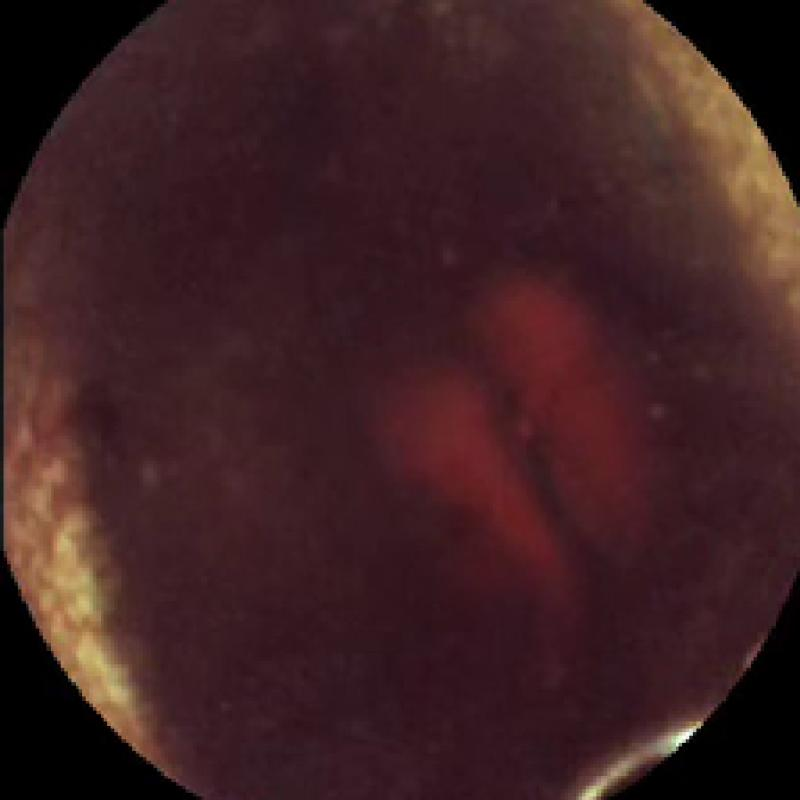bleeding: (354, 268, 682, 593)
